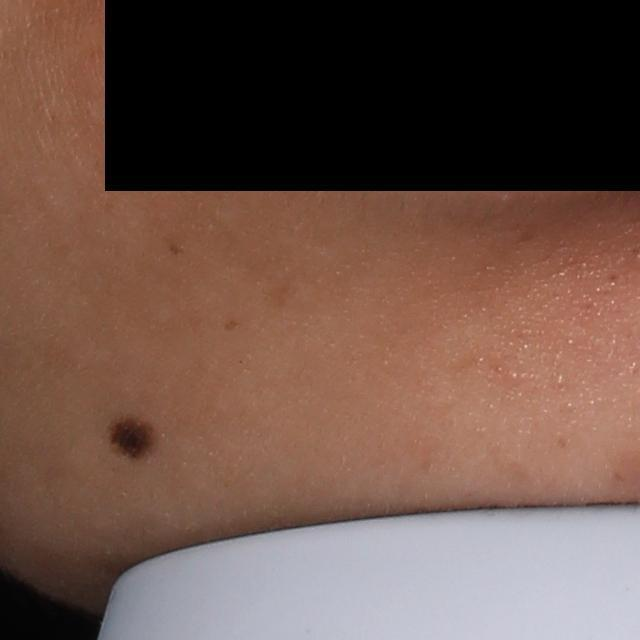nevus: (102, 412, 162, 466)
